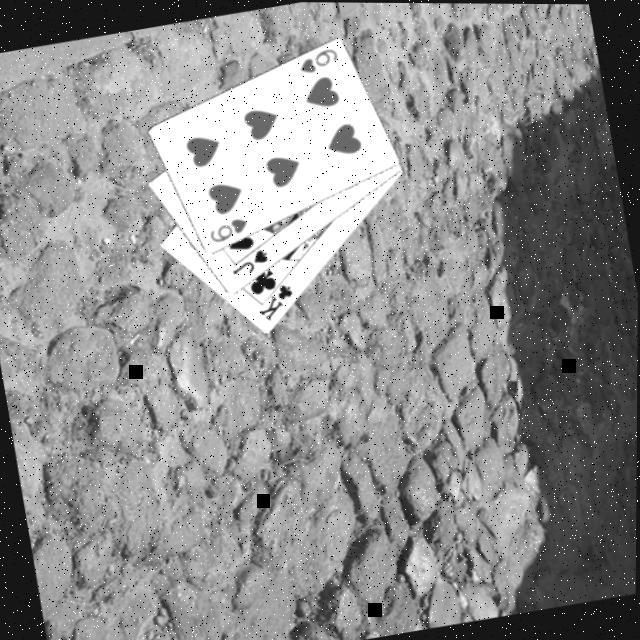6H: (294, 41, 344, 75), (206, 211, 253, 244)
JS: (227, 242, 275, 278)
KC: (252, 269, 302, 322)
